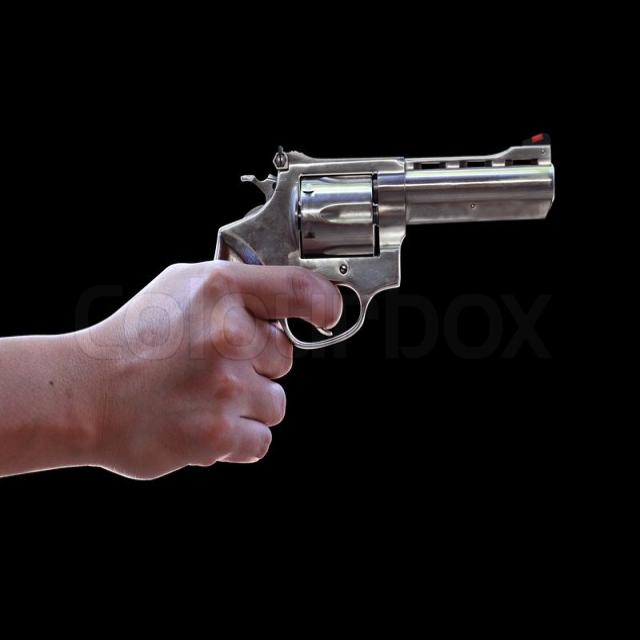HandGun: (214, 146, 555, 345)
